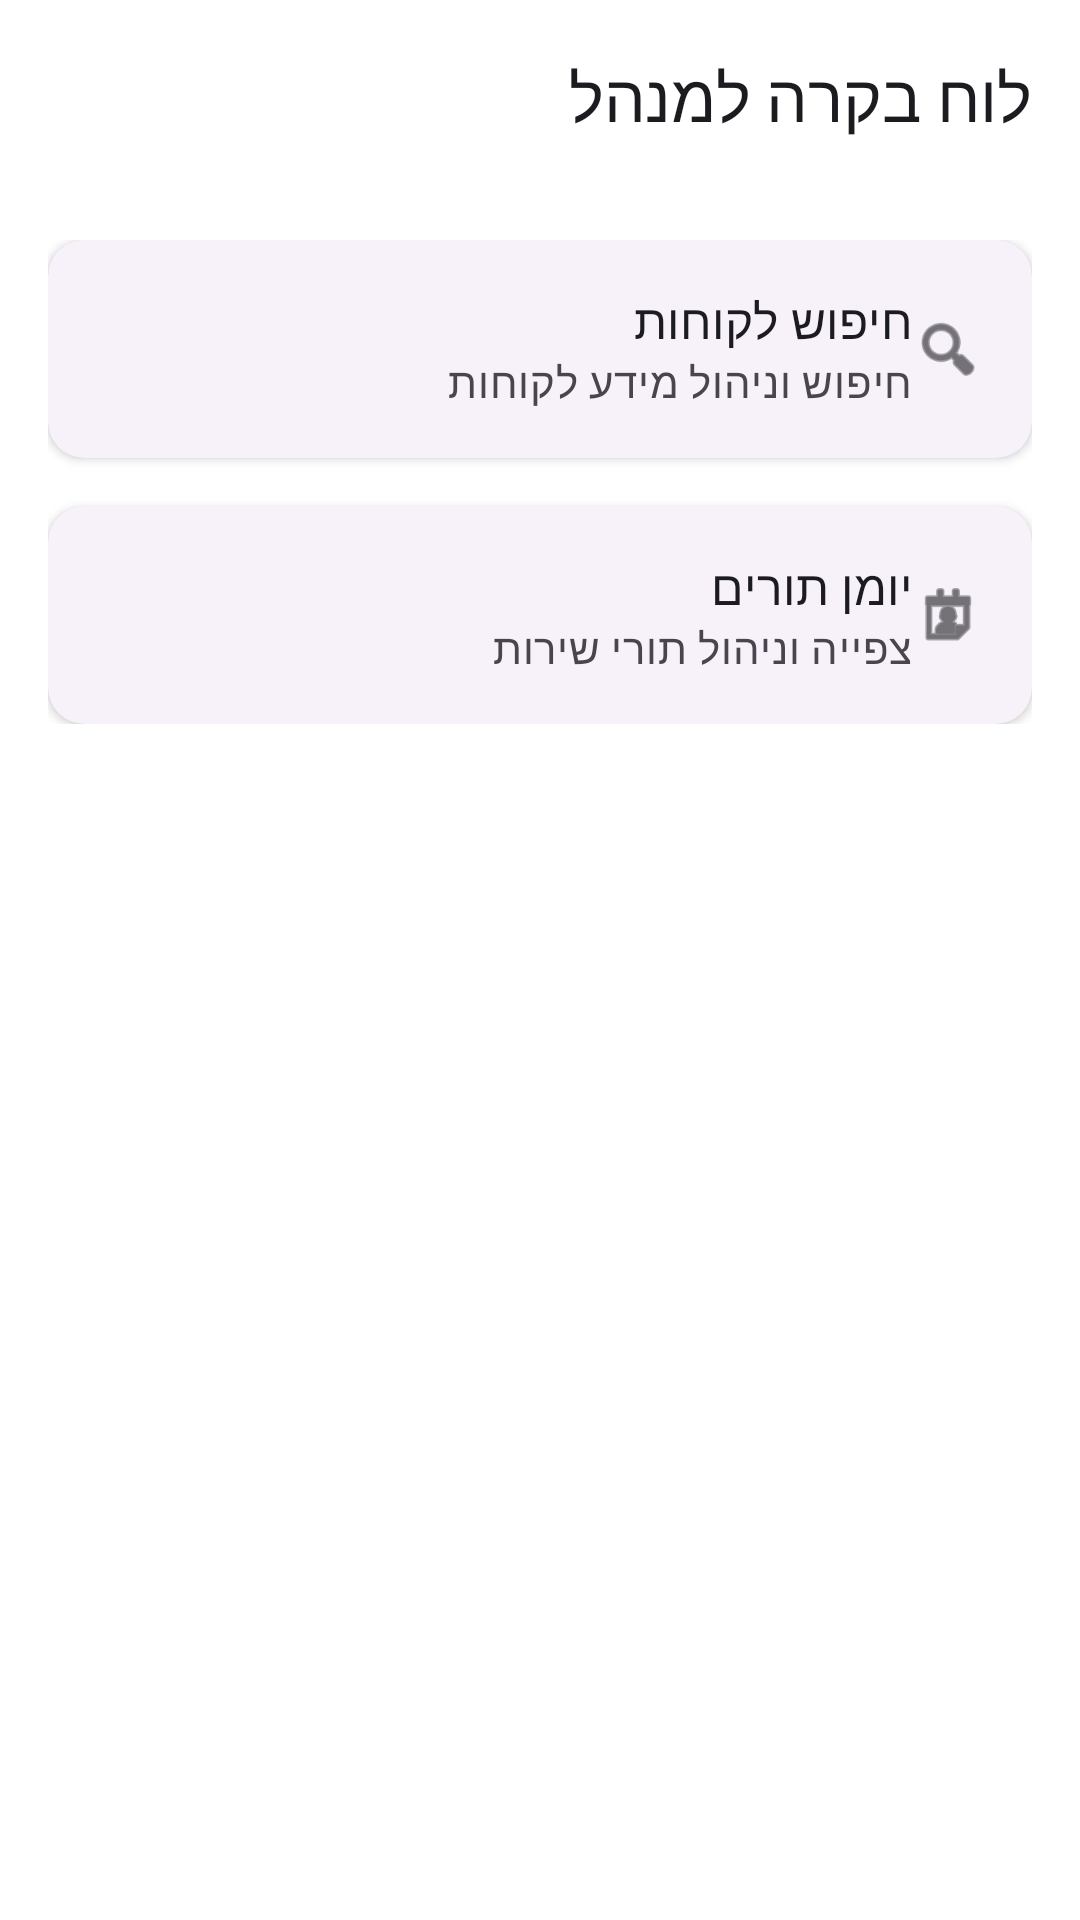

Named icons in this screenshot (1080×1920) and their centers, (x,y):
calendar: (948,614)
search: (948,349)
